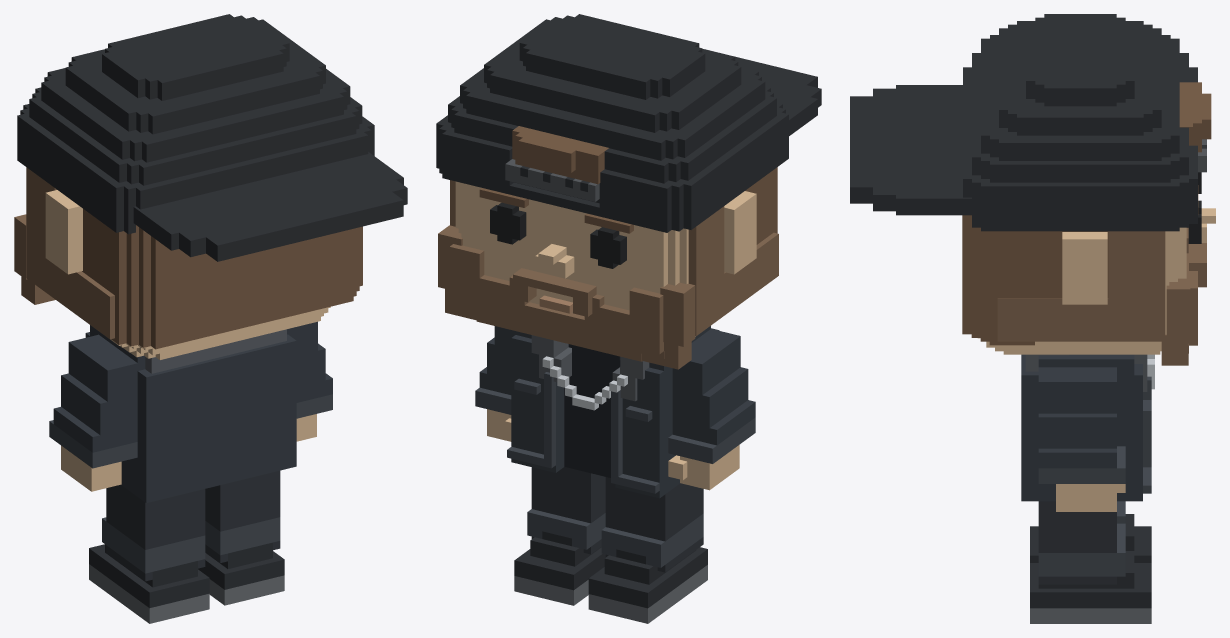
The model's file is main_head_body.glb.
3 views of the same model, side by side, from view 1: azimuth 30°, elevation 25°; view 2: azimuth 150°, elevation 25°; view 3: azimuth 270°, elevation 25° (orthographic).
Parts seen in each view (by area): view 1: 09_Sweater, 06_Cap_Crown, 03_Hair, 07_Cap_Back_Brim, 04_Beard.001, 02_Ears, 01_Head, Cube.011; view 2: 09_Sweater, 06_Cap_Crown, 04_Beard, 01_Head, 04_Beard.001, 03_Hair, Cube.011, 07_Cap_Back_Brim, 05_Face.002, 05_Face, 02_Ears, 08_Cap_Adjuster (+1 smaller); view 3: 06_Cap_Crown, 09_Sweater, 07_Cap_Back_Brim, 04_Beard.001, 03_Hair, 01_Head, 02_Ears, Cube.011, 04_Beard, Cube.012.
Boxes of the visible parts, bbox=[...] form: 09_Sweater: bbox=[49, 321, 332, 623]; 06_Cap_Crown: bbox=[17, 14, 374, 234]; 03_Hair: bbox=[82, 209, 362, 349]; 07_Cap_Back_Brim: bbox=[133, 152, 407, 261]; 04_Beard.001: bbox=[26, 167, 114, 339]; 02_Ears: bbox=[45, 190, 82, 274]; 01_Head: bbox=[110, 306, 330, 359]; Cube.011: bbox=[14, 214, 27, 279]; 09_Sweater: bbox=[475, 326, 755, 623]; 06_Cap_Crown: bbox=[436, 14, 788, 232]; 04_Beard: bbox=[449, 244, 664, 361]; 01_Head: bbox=[455, 181, 695, 336]; 04_Beard.001: bbox=[450, 180, 778, 336]; 03_Hair: bbox=[512, 126, 777, 244]; Cube.011: bbox=[438, 225, 695, 346]; 07_Cap_Back_Brim: bbox=[735, 56, 821, 135]; 05_Face.002: bbox=[490, 202, 626, 268]; 05_Face: bbox=[479, 188, 633, 313]; 02_Ears: bbox=[724, 191, 756, 274]; 08_Cap_Adjuster: bbox=[505, 159, 599, 201]; 06_Cap_Crown: bbox=[963, 14, 1197, 231]; 09_Sweater: bbox=[1021, 354, 1154, 623]; 07_Cap_Back_Brim: bbox=[850, 85, 971, 215]; 04_Beard.001: bbox=[997, 231, 1165, 341]; 03_Hair: bbox=[962, 82, 1211, 345]; 01_Head: bbox=[978, 227, 1186, 354]; 02_Ears: bbox=[1062, 232, 1107, 304]; Cube.011: bbox=[1166, 227, 1190, 343]; 04_Beard: bbox=[1186, 243, 1206, 353]; Cube.012: bbox=[1161, 228, 1188, 365].
Bounding box in the file's own units: 0.4206 × 0.793 × 0.4857.
